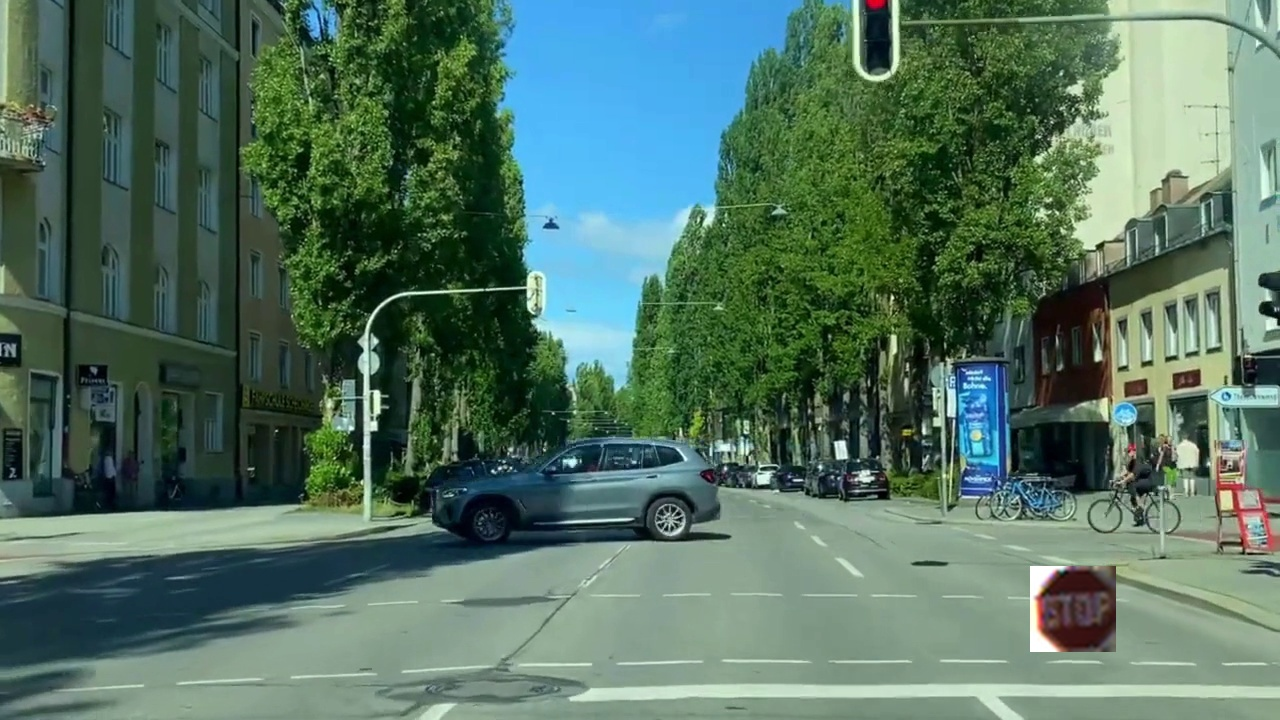Stop: (1030, 566, 1116, 652)
